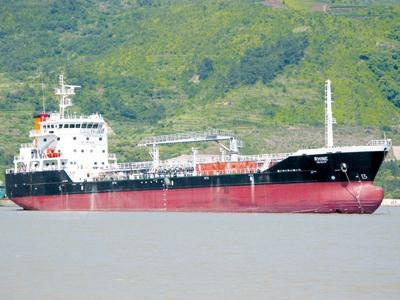Cargoship: (1, 65, 400, 215)
